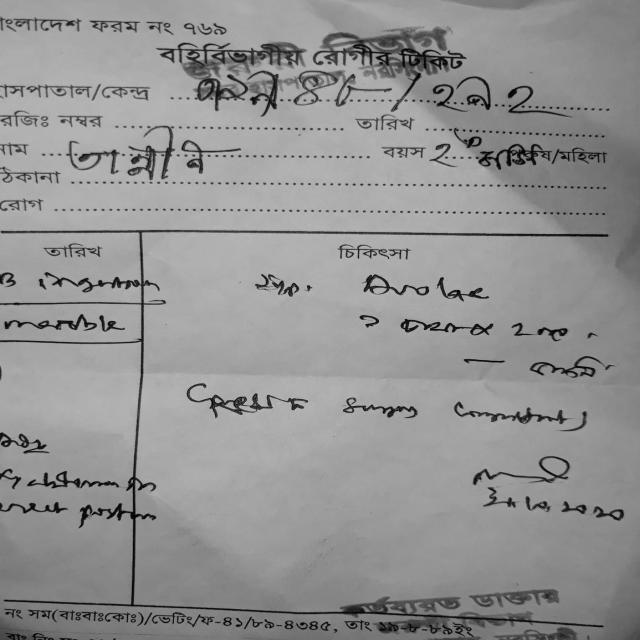medicine: (353, 269, 496, 304)
